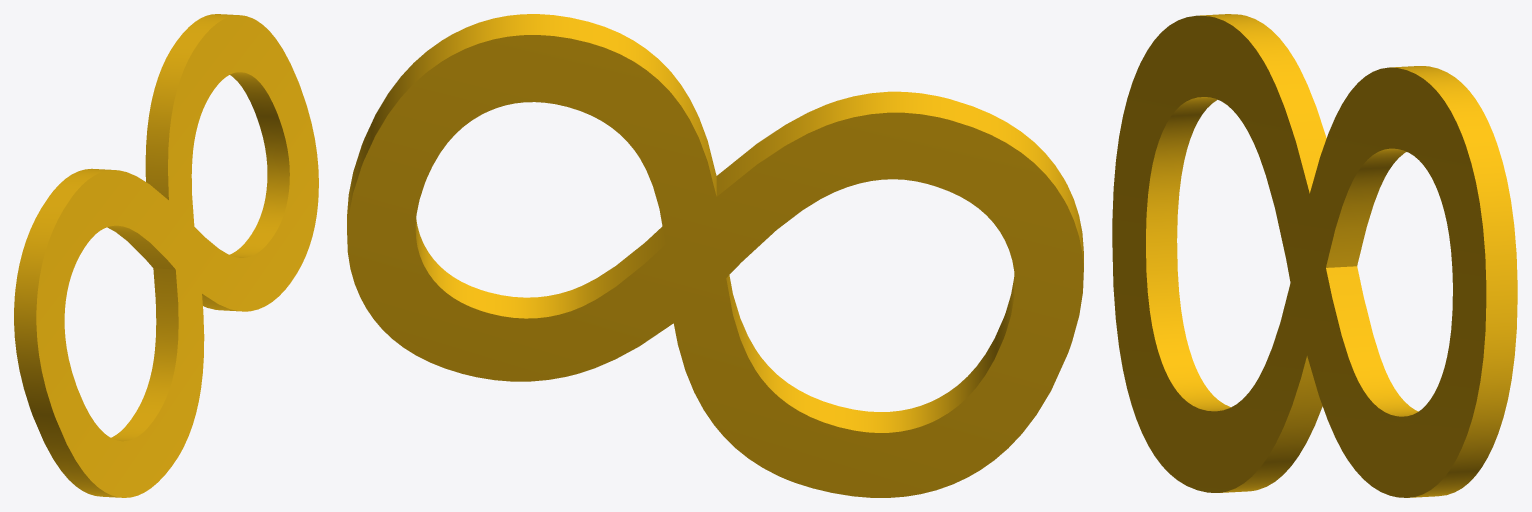
File: Number_8.gltf
The picture shows the model from 3 angles, left to right: view 1: azimuth 30°, elevation 25°; view 2: azimuth 150°, elevation 25°; view 3: azimuth 270°, elevation 25°; orthographic projection. The views are drawn at different scales.
Visible parts, largest first — view 1: Sub_8_Cell_1_3_Number_8; view 2: Sub_8_Cell_1_3_Number_8; view 3: Sub_8_Cell_1_3_Number_8.
Boxes of the visible parts, x1,y1,x2,y2 form: Sub_8_Cell_1_3_Number_8: (14,14,318,497); Sub_8_Cell_1_3_Number_8: (347,14,1083,497); Sub_8_Cell_1_3_Number_8: (1112,14,1517,497).
Size of the model in its own units: 0.0233 by 0.0196 by 0.014.
